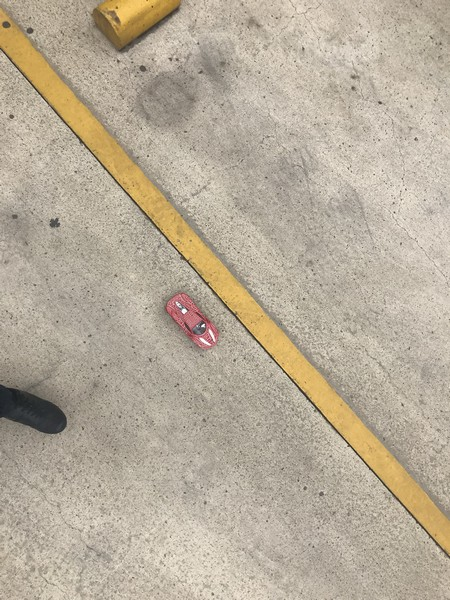RC: (164, 292, 221, 351)
